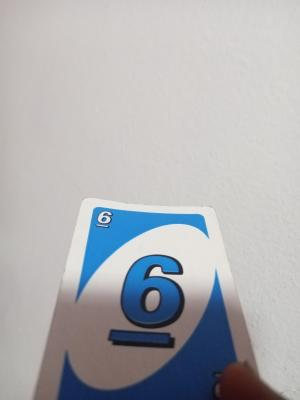blue: (86, 206, 216, 393)
num_6: (90, 209, 117, 235)
